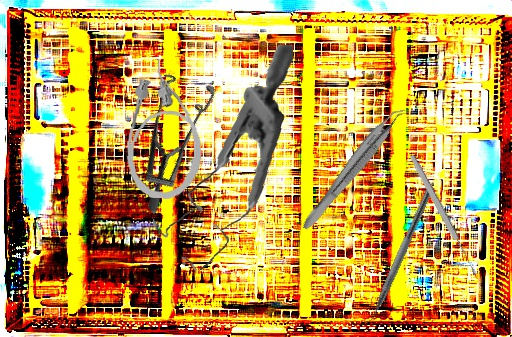Cannula: (122, 57, 209, 201)
Chopper: (356, 181, 435, 333)
Speculum: (141, 44, 308, 274), (89, 55, 252, 215)
Surgical Spoon: (408, 153, 479, 277)
Tissue Forceps: (299, 101, 410, 237)
